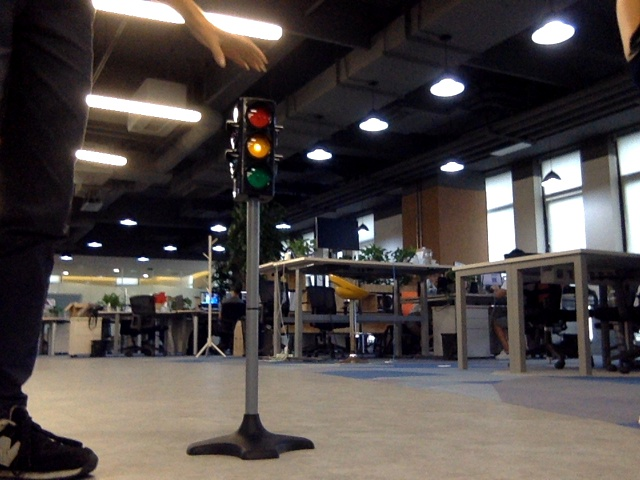yellow: (240, 105, 272, 197)
